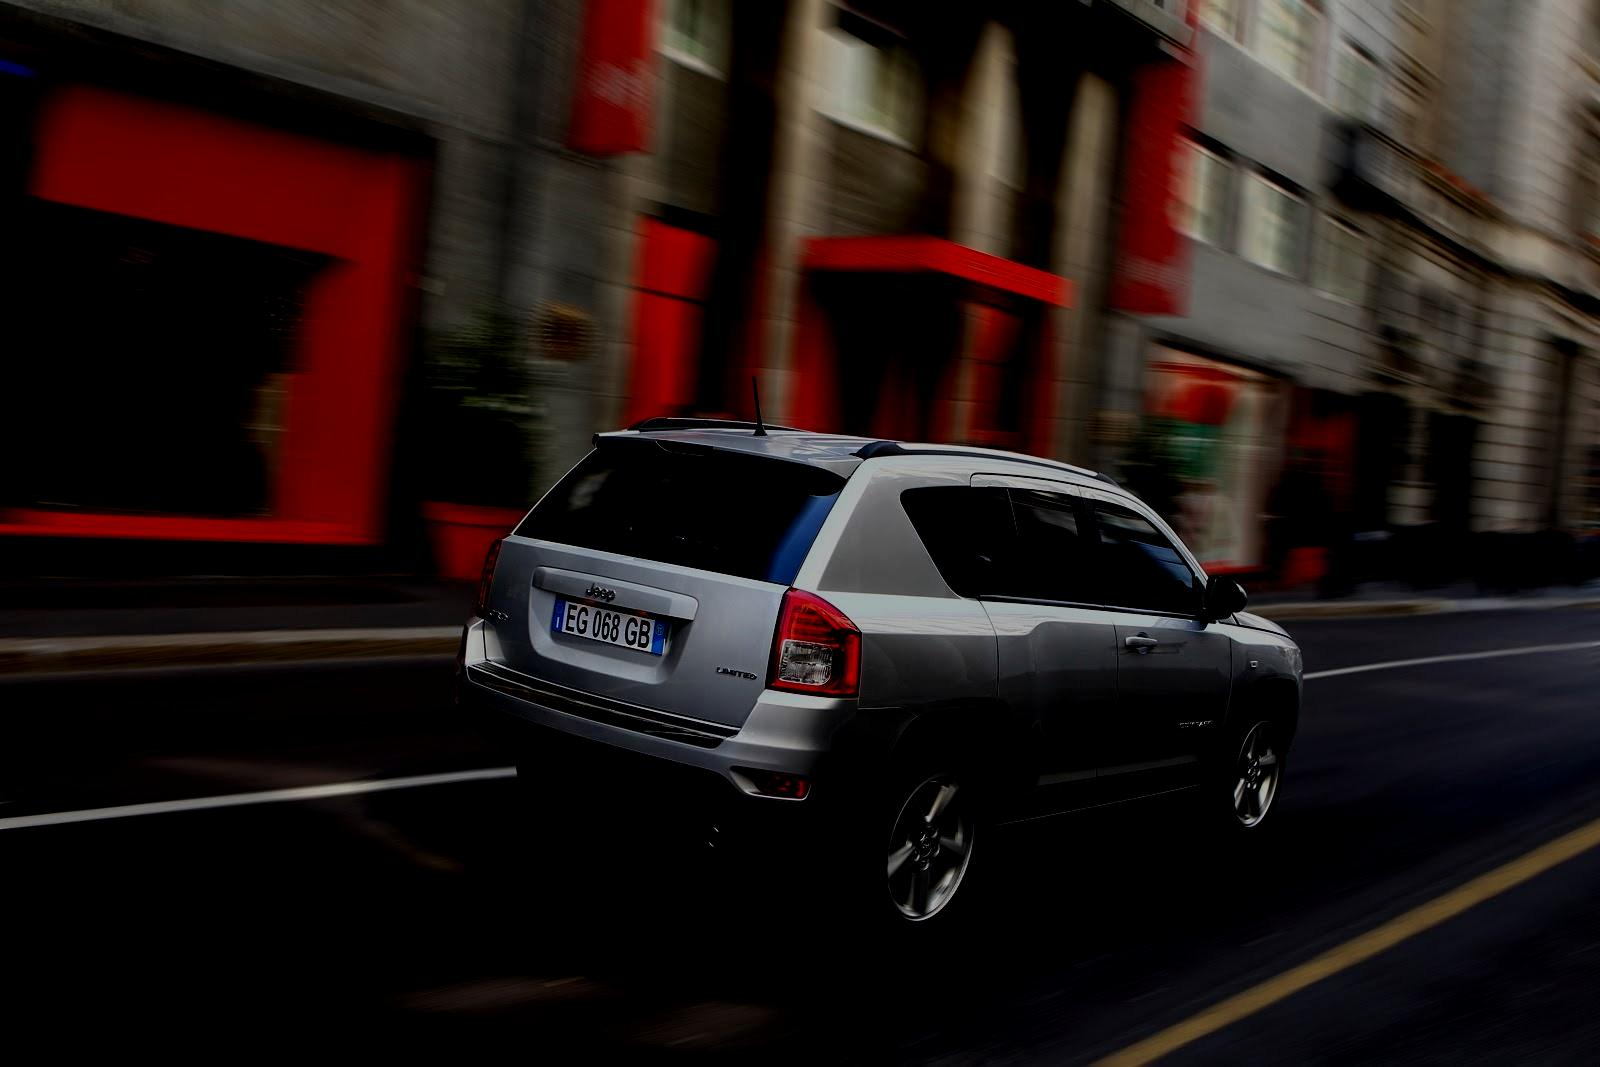jeep: (570, 572, 623, 613)
